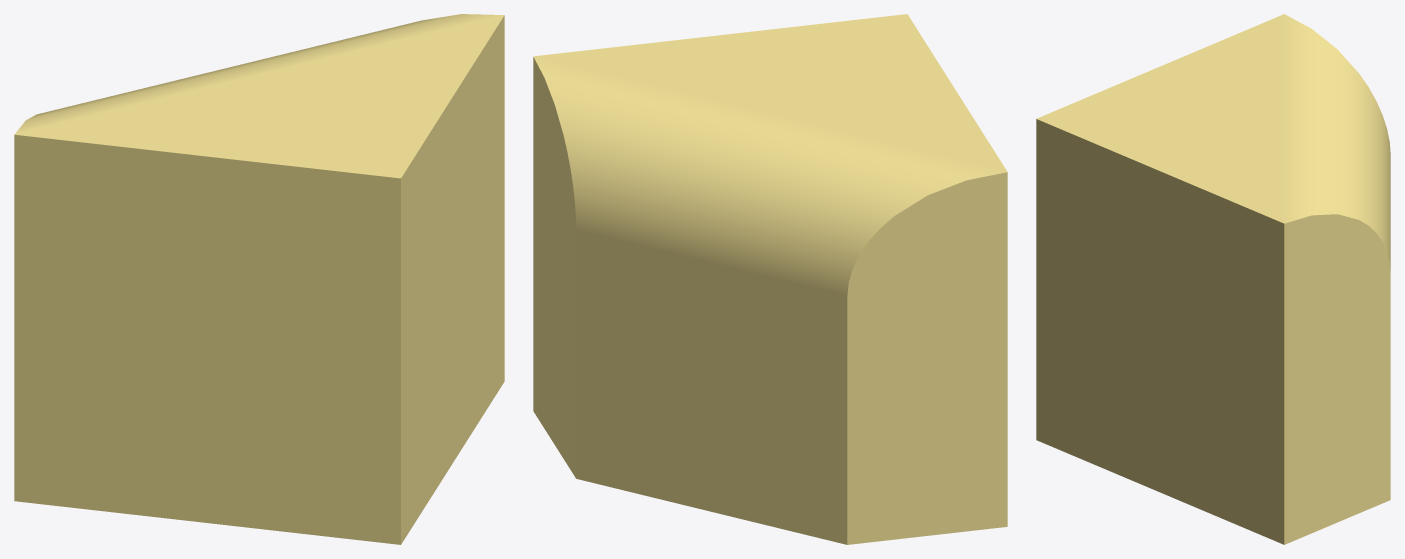
File: Base_Rounded.glb
The picture shows the model from 3 angles, left to right: view 1: azimuth 30°, elevation 25°; view 2: azimuth 150°, elevation 25°; view 3: azimuth 270°, elevation 25°; orthographic projection. The views are drawn at different scales.
Parts seen in each view (by area): view 1: Base_Rounded; view 2: Base_Rounded; view 3: Base_Rounded.
Part boxes in pixels (<box>): Base_Rounded: <box>14,14,504,544</box>; Base_Rounded: <box>533,14,1007,544</box>; Base_Rounded: <box>1036,14,1390,544</box>.
Size of the model in its own units: 0.7 by 0.5 by 0.5.
